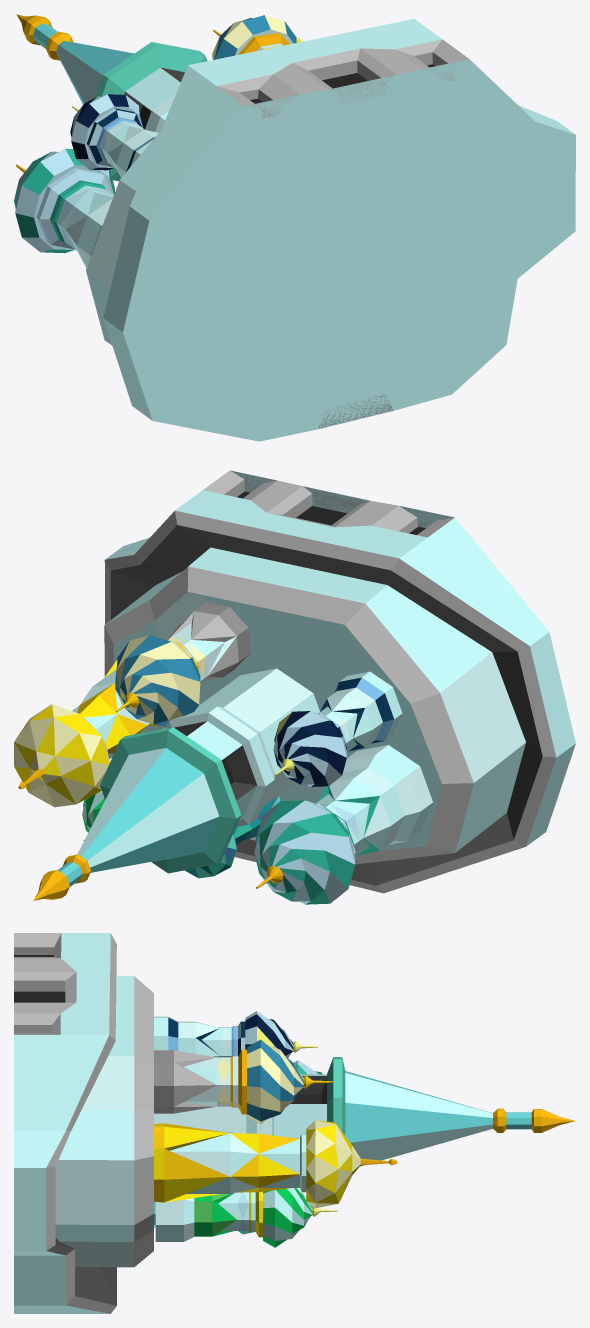
The model's file is statue_7.fbx.
3 views of the same model, one above another, from view 1: azimuth 30°, elevation 25°; view 2: azimuth 150°, elevation 25°; view 3: azimuth 270°, elevation 25° (orthographic). The views are drawn at different scales.
Parts seen in each view (by area): view 1: statue_7; view 2: statue_7; view 3: statue_7.
Part boxes in pixels (x1,y1,x2,y2): statue_7: (14,14,575,441); statue_7: (14,470,575,904); statue_7: (14,933,575,1313).
Size of the model in its own units: 475 by 341 by 590.
